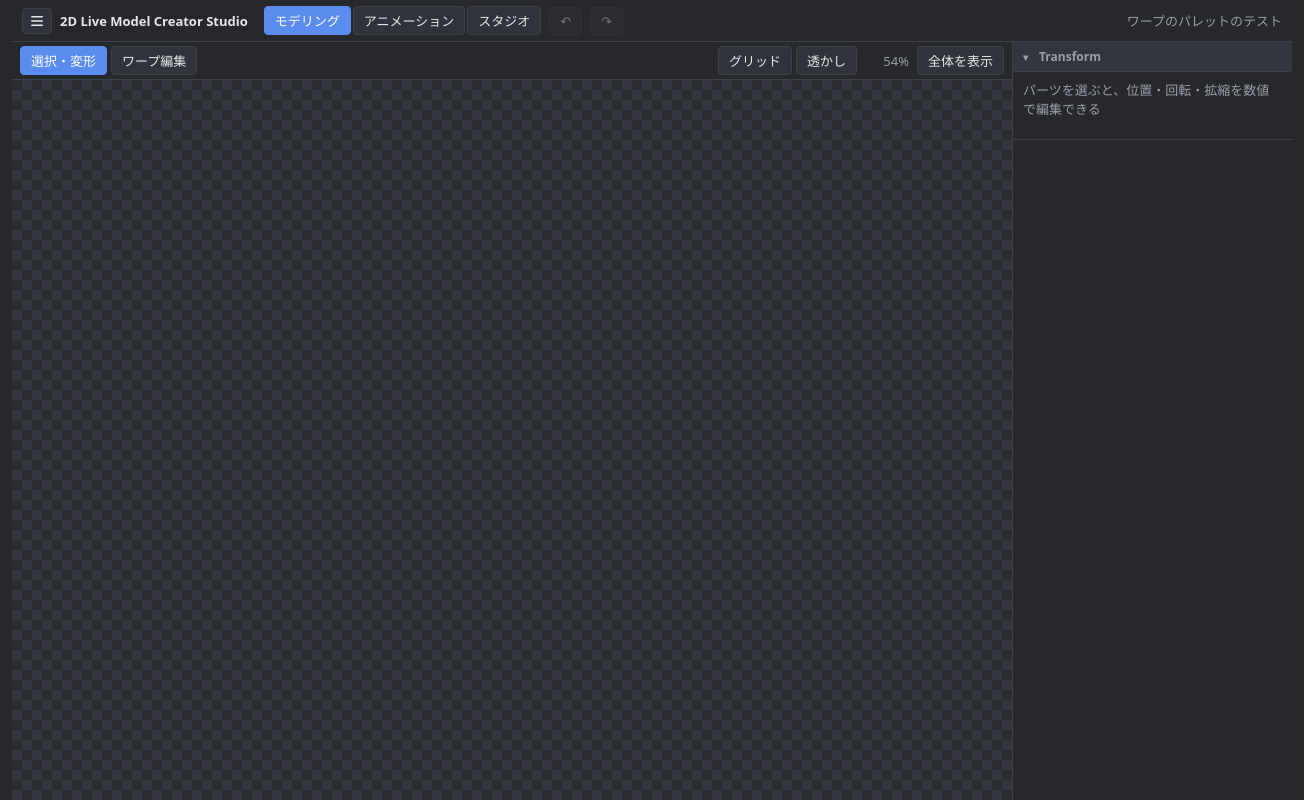
Scenario: ワープのパレットの手順 › 何も選ばずにツールにすると ① がいまの段で、パレットの案内はキャンバスの帯と同じ文
The width and height of the screenshot is (1304, 800).
Click the button "ワープ編集": click(154, 60) [111,46,197,75]
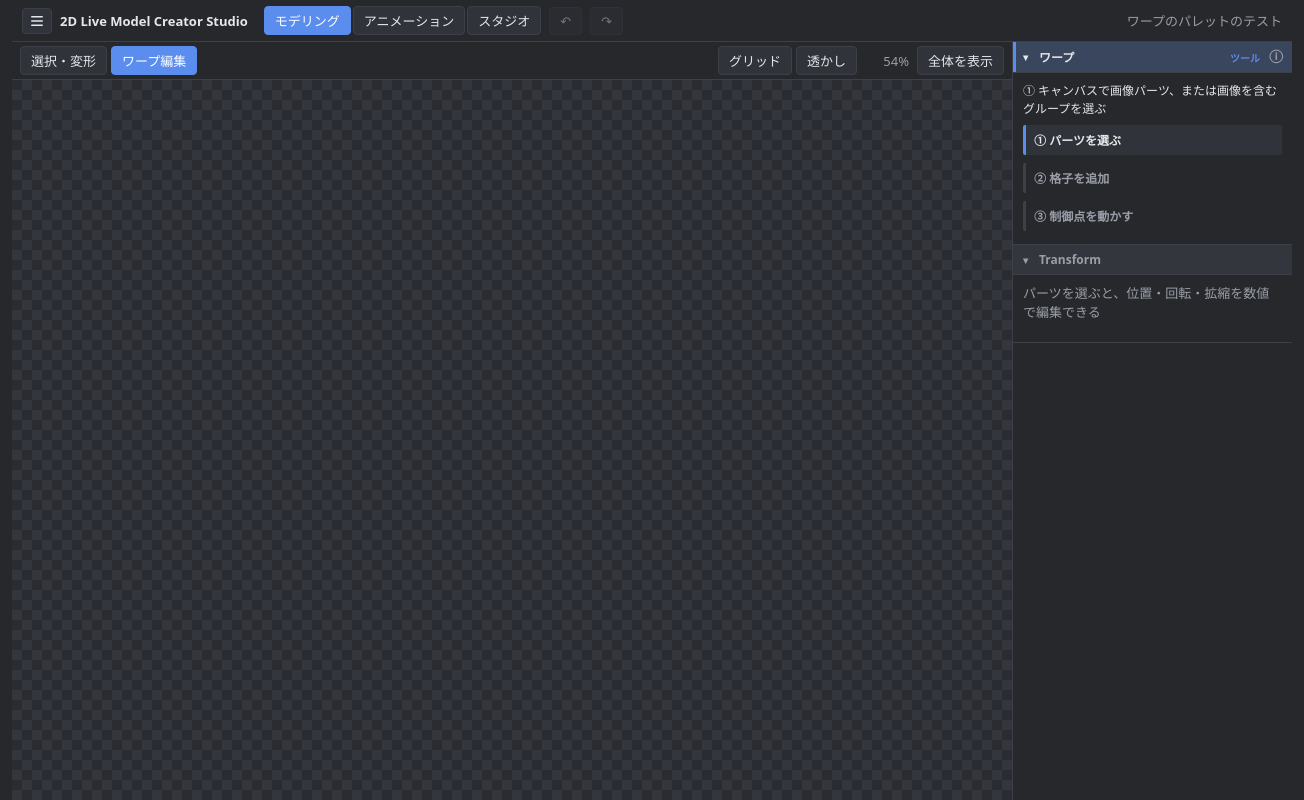
Now the text "① キャンバスで画像パーツ、または画像を含むグループを選ぶ" is shown, box [1023,81,1282,117]
Now the list item with class "warp-step" reads "① パーツを選ぶ", box [1023,125,1282,155]
